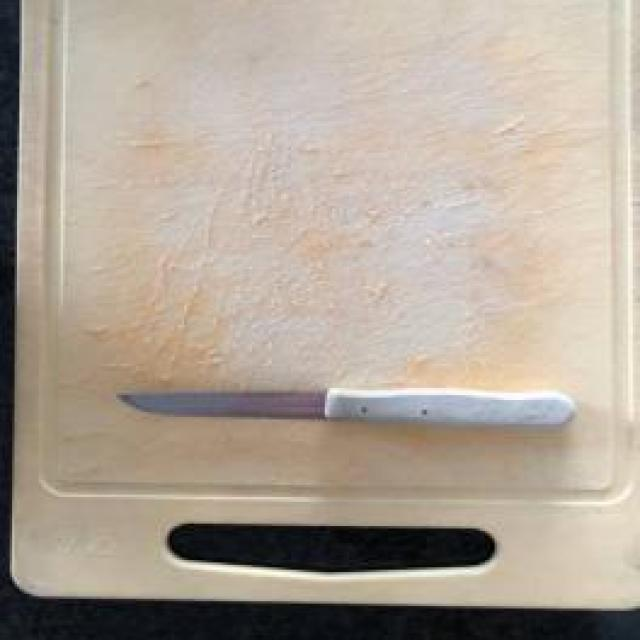knife: (109, 383, 584, 429)
